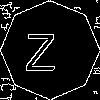Z: (25, 25, 55, 70)
